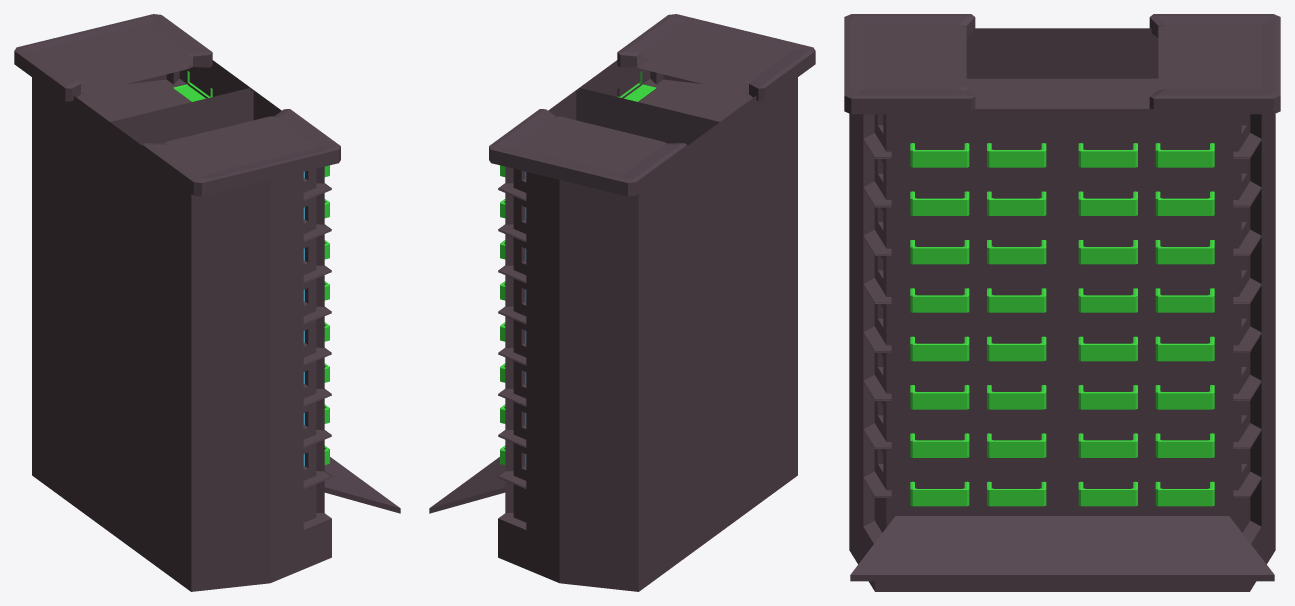
The model's file is buildings18.fbx.
3 views of the same model, side by side, from view 1: azimuth 30°, elevation 25°; view 2: azimuth 150°, elevation 25°; view 3: azimuth 270°, elevation 25° (orthographic). The views are drawn at different scales.
Parts seen in each view (by area): view 1: 14; view 2: 14; view 3: 14.
Part boxes in pixels (left/top/right/bottom): 14: left=14, top=14, right=400, bottom=591; 14: left=429, top=14, right=815, bottom=591; 14: left=844, top=14, right=1280, bottom=591.
Size of the model in its own units: 7078 by 13746 by 11015.
